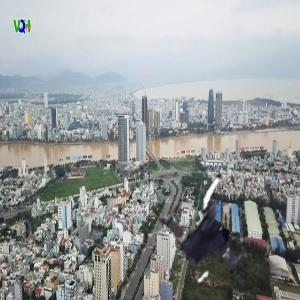drone: (147, 160, 284, 297)
